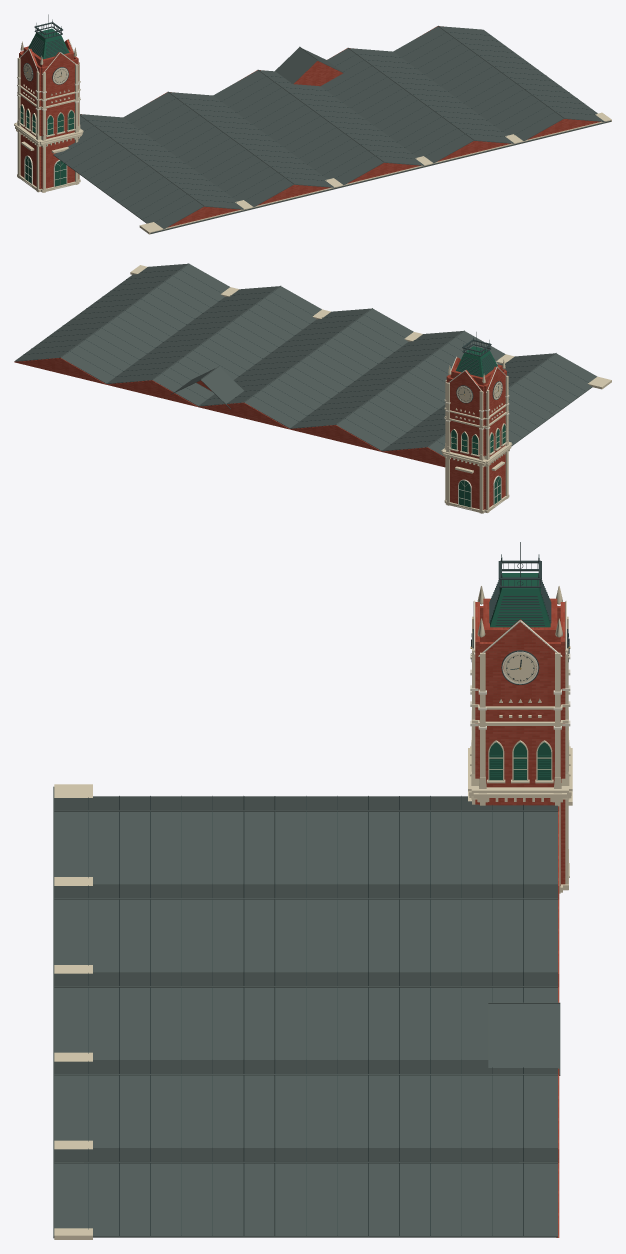
The model's file is KOL_T1_NEW_MARKET__04_RoofsTower.fbx.
3 renders of one model, top to bottom at view 1: azimuth 30°, elevation 25°; view 2: azimuth 150°, elevation 25°; view 3: azimuth 270°, elevation 25°, orthographic. The views are drawn at different scales.
Visible parts, largest first — view 1: KOL_T1_NEW_MARKET__04_RoofsTower__KOL_T1_B4_Slate_00, KOL_T1_NEW_MARKET__04_RoofsTower__KOL_T1_B4_Brick_00, KOL_T1_NEW_MARKET__04_RoofsTower__KOL_T1_B4_Iron_00, KOL_T1_NEW_MARKET__04_RoofsTower__KOL_T1_B4_Ivory_00, KOL_T1_NEW_MARKET__04_RoofsTower__KOL_T1_B4_Green_00, KOL_T1_NEW_MARKET__04_RoofsTower__KOL_T1_B4_Trim_00; view 2: KOL_T1_NEW_MARKET__04_RoofsTower__KOL_T1_B4_Slate_00, KOL_T1_NEW_MARKET__04_RoofsTower__KOL_T1_B4_Brick_00, KOL_T1_NEW_MARKET__04_RoofsTower__KOL_T1_B4_Iron_00, KOL_T1_NEW_MARKET__04_RoofsTower__KOL_T1_B4_Ivory_00, KOL_T1_NEW_MARKET__04_RoofsTower__KOL_T1_B4_Green_00, KOL_T1_NEW_MARKET__04_RoofsTower__KOL_T1_B4_Trim_00; view 3: KOL_T1_NEW_MARKET__04_RoofsTower__KOL_T1_B4_Slate_00, KOL_T1_NEW_MARKET__04_RoofsTower__KOL_T1_B4_Brick_00, KOL_T1_NEW_MARKET__04_RoofsTower__KOL_T1_B4_Ivory_00, KOL_T1_NEW_MARKET__04_RoofsTower__KOL_T1_B4_Iron_00, KOL_T1_NEW_MARKET__04_RoofsTower__KOL_T1_B4_Green_00, KOL_T1_NEW_MARKET__04_RoofsTower__KOL_T1_B4_Trim_00.
Boxes of the visible parts, x1,y1,x2,y2 form: KOL_T1_NEW_MARKET__04_RoofsTower__KOL_T1_B4_Slate_00: (53,25,611,233); KOL_T1_NEW_MARKET__04_RoofsTower__KOL_T1_B4_Brick_00: (19,26,600,227); KOL_T1_NEW_MARKET__04_RoofsTower__KOL_T1_B4_Iron_00: (23,14,596,222); KOL_T1_NEW_MARKET__04_RoofsTower__KOL_T1_B4_Ivory_00: (14,41,611,234); KOL_T1_NEW_MARKET__04_RoofsTower__KOL_T1_B4_Green_00: (20,28,73,186); KOL_T1_NEW_MARKET__04_RoofsTower__KOL_T1_B4_Trim_00: (17,39,80,189); KOL_T1_NEW_MARKET__04_RoofsTower__KOL_T1_B4_Slate_00: (14,263,597,456); KOL_T1_NEW_MARKET__04_RoofsTower__KOL_T1_B4_Brick_00: (14,357,506,509); KOL_T1_NEW_MARKET__04_RoofsTower__KOL_T1_B4_Iron_00: (23,269,588,445); KOL_T1_NEW_MARKET__04_RoofsTower__KOL_T1_B4_Ivory_00: (130,265,611,513); KOL_T1_NEW_MARKET__04_RoofsTower__KOL_T1_B4_Green_00: (451,346,505,507); KOL_T1_NEW_MARKET__04_RoofsTower__KOL_T1_B4_Trim_00: (444,356,509,510); KOL_T1_NEW_MARKET__04_RoofsTower__KOL_T1_B4_Slate_00: (53,786,560,1238); KOL_T1_NEW_MARKET__04_RoofsTower__KOL_T1_B4_Brick_00: (475,598,565,1237); KOL_T1_NEW_MARKET__04_RoofsTower__KOL_T1_B4_Ivory_00: (54,586,572,1239); KOL_T1_NEW_MARKET__04_RoofsTower__KOL_T1_B4_Iron_00: (88,542,569,1235); KOL_T1_NEW_MARKET__04_RoofsTower__KOL_T1_B4_Green_00: (489,573,551,780); KOL_T1_NEW_MARKET__04_RoofsTower__KOL_T1_B4_Trim_00: (470,600,570,877).
Bounding box in the file's own units: 279 × 94 × 134.
Materials: 8 (1 with a texture image).
